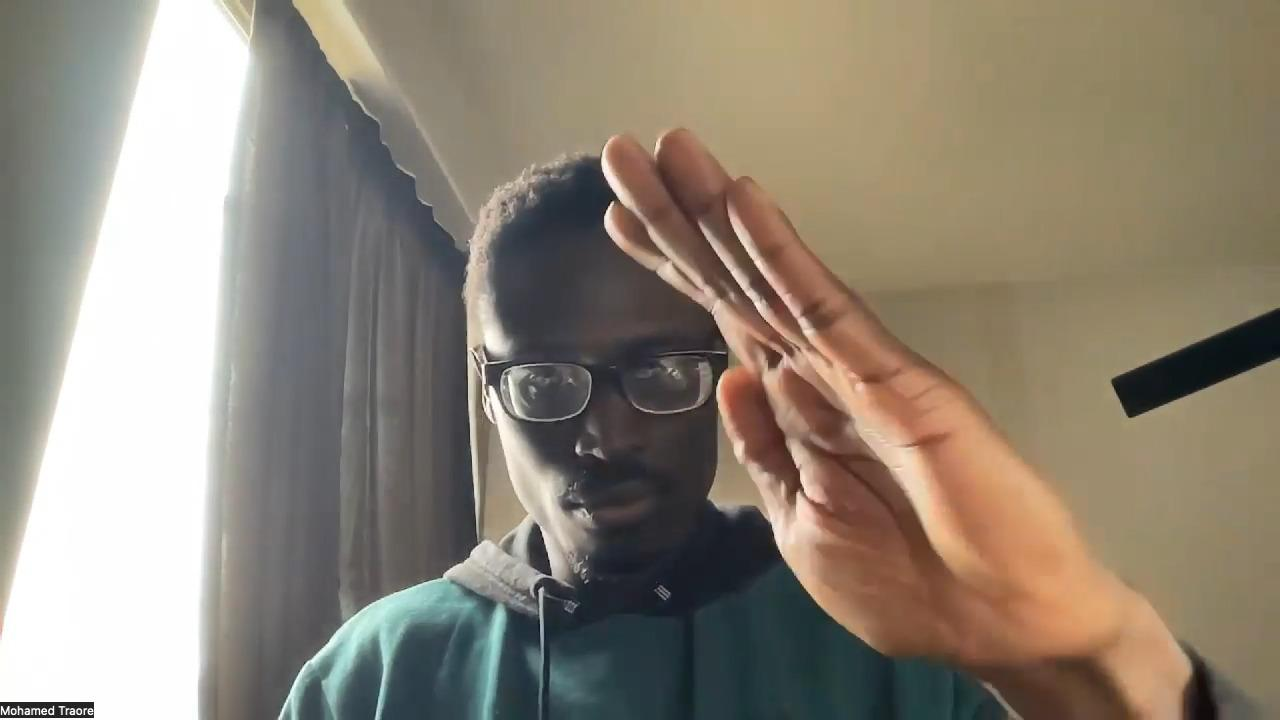Paper: (597, 123, 1125, 676)
